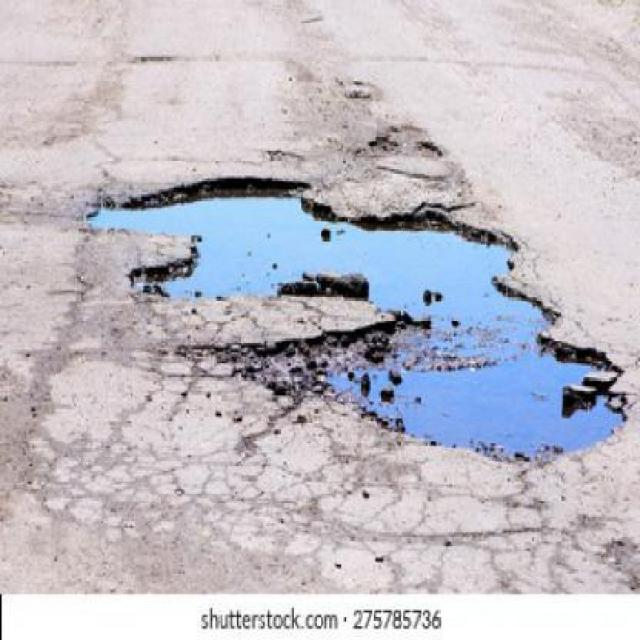Pothole: (86, 176, 629, 459)
